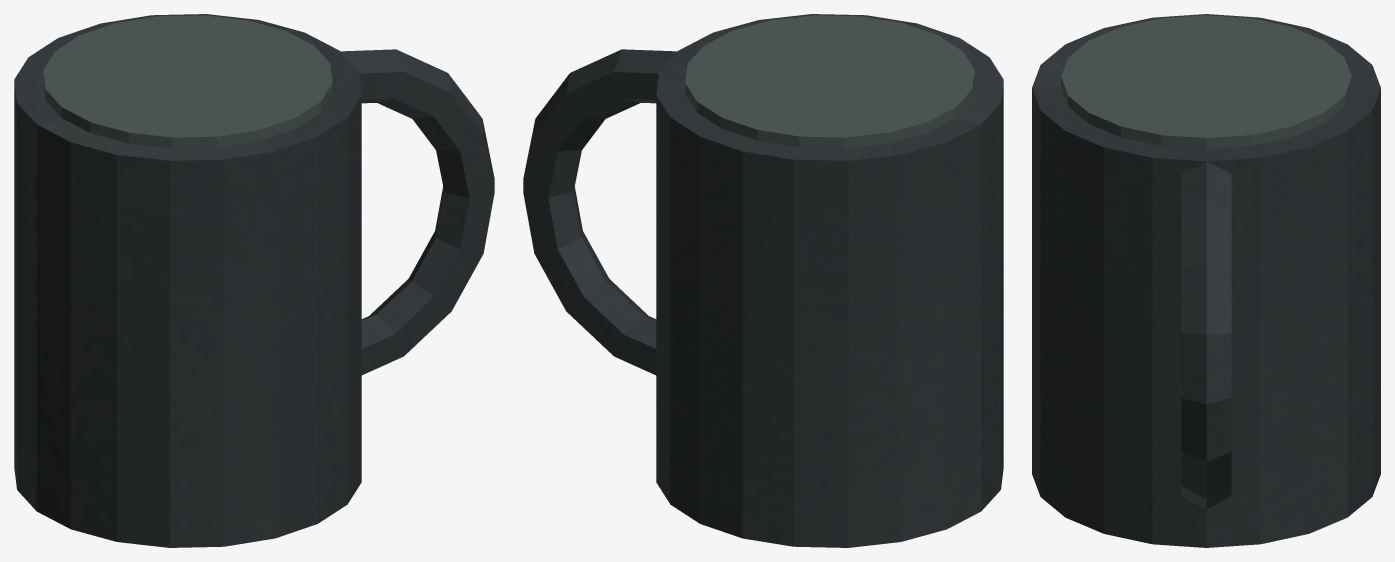
Rendered from Mug.glb.
3 views of the same model, side by side, from view 1: azimuth 30°, elevation 25°; view 2: azimuth 150°, elevation 25°; view 3: azimuth 270°, elevation 25° (orthographic).
Parts seen in each view (by area): view 1: Mug__Powdercoat__mesh, Mug__Rubber__mesh; view 2: Mug__Powdercoat__mesh, Mug__Rubber__mesh; view 3: Mug__Powdercoat__mesh, Mug__Rubber__mesh.
Boxes of the visible parts, x1,y1,x2,y2 form: Mug__Powdercoat__mesh: (14,14,494,547); Mug__Rubber__mesh: (43,15,332,148); Mug__Powdercoat__mesh: (523,14,1003,547); Mug__Rubber__mesh: (685,15,974,148); Mug__Powdercoat__mesh: (1032,14,1380,547); Mug__Rubber__mesh: (1061,15,1351,148).
Bounding box in the file's own units: 0.109 × 0.0905 × 0.072.
Materials: 2 (1 with a texture image).
